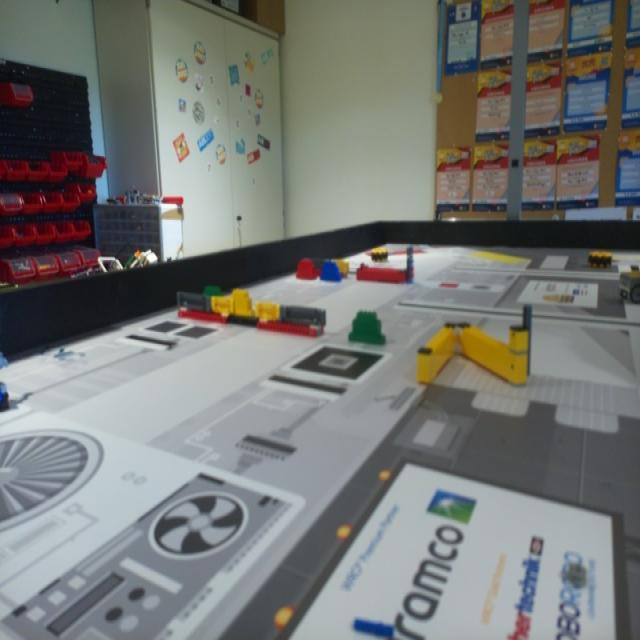blau: (318, 260, 344, 285)
gruen: (348, 310, 386, 345), (202, 278, 224, 300)
rot: (292, 256, 318, 281)
yellow: (230, 287, 260, 323)
